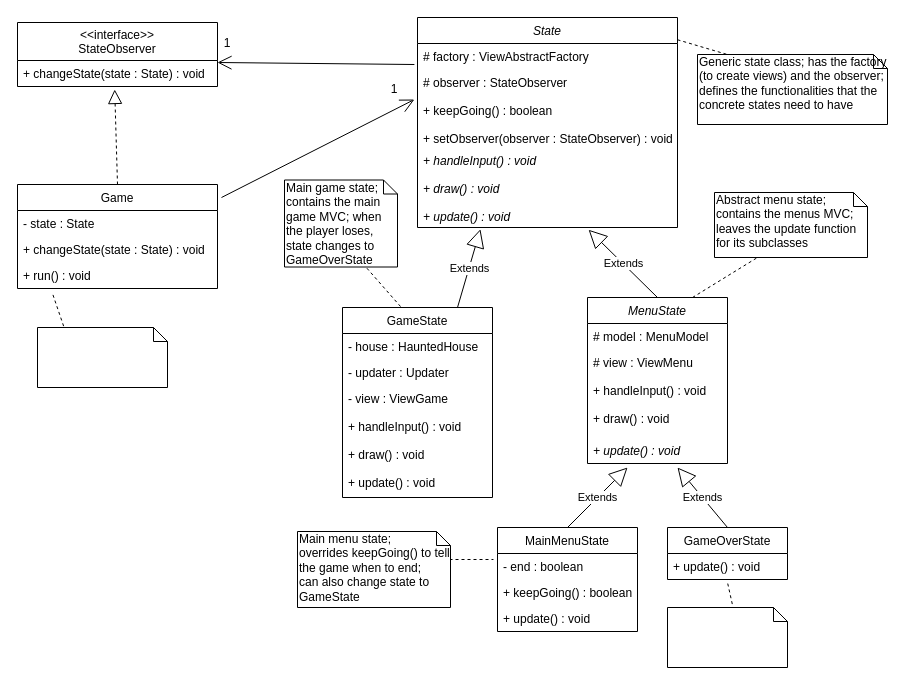
Image size: 905x685. Some labels were removed from this diagram. The shapes that lost their labels are listed below. From the top down, each one's centre as x and y in pixels, then its label:
[102,357]: run() calls the current state's handleInput(), draw(), and update()
[727,637]: Game over state; can change state to GameState or MainMenuState
